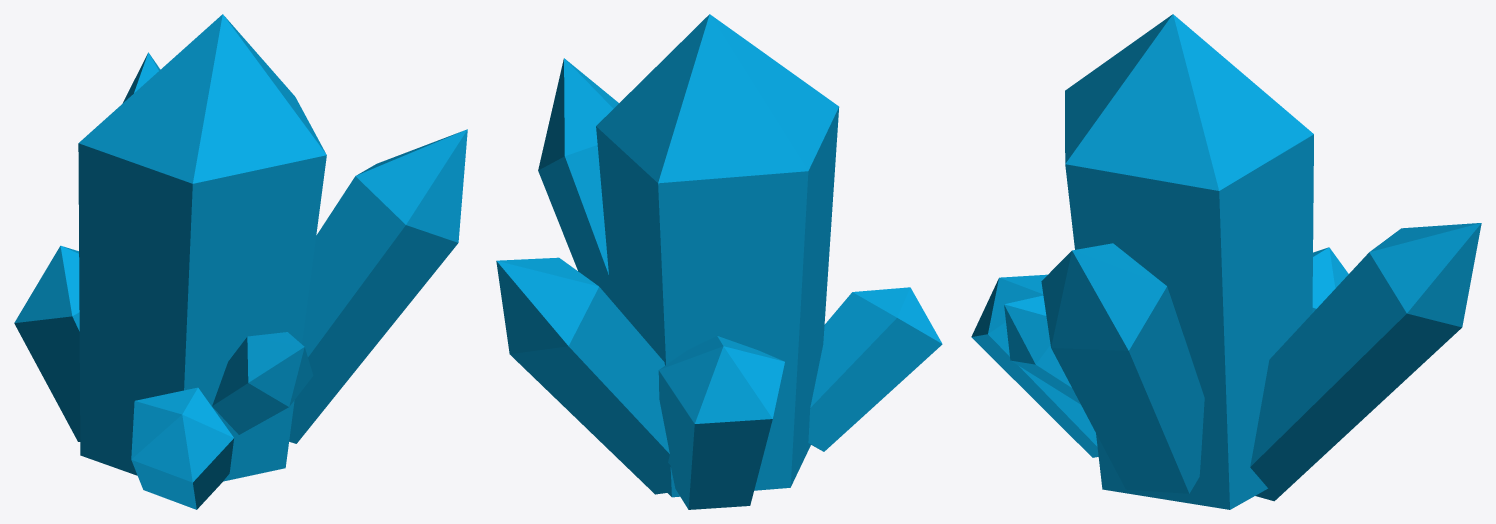
Rendered from Crystal_Cluster_002.fbx.
3 views of the same model, side by side, from view 1: azimuth 30°, elevation 25°; view 2: azimuth 150°, elevation 25°; view 3: azimuth 270°, elevation 25° (orthographic). The views are drawn at different scales.
Visible parts, largest first — view 1: Crystal_Cluster_002; view 2: Crystal_Cluster_002; view 3: Crystal_Cluster_002.
Part boxes in pixels (bbox=[...]): Crystal_Cluster_002: bbox=[14, 14, 467, 509]; Crystal_Cluster_002: bbox=[496, 14, 942, 509]; Crystal_Cluster_002: bbox=[971, 14, 1481, 509].
Size of the model in its own units: 64.14 by 77.62 by 74.29.
